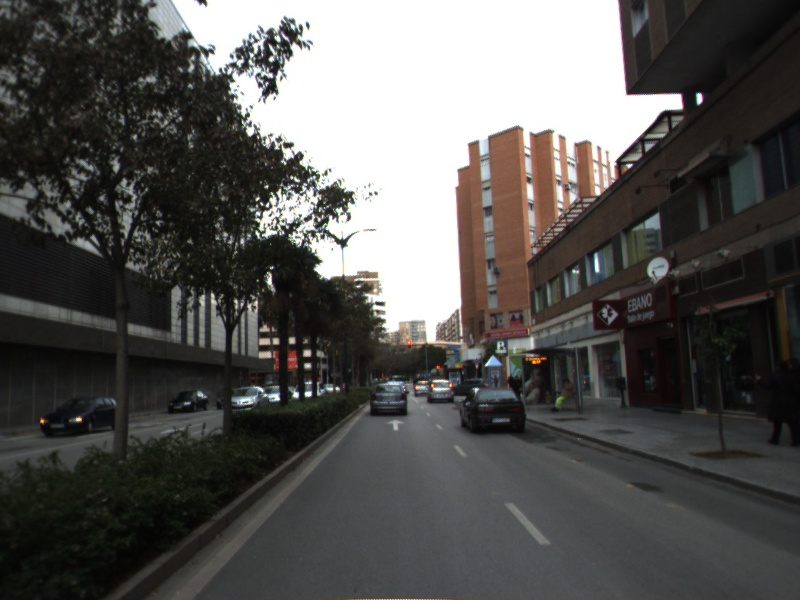STRAIGHT: (384, 417, 408, 432)
